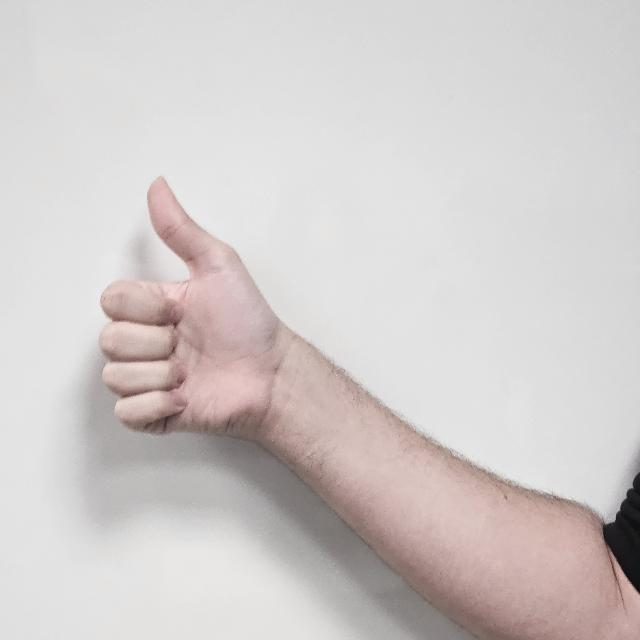Start: (100, 169, 280, 469)
